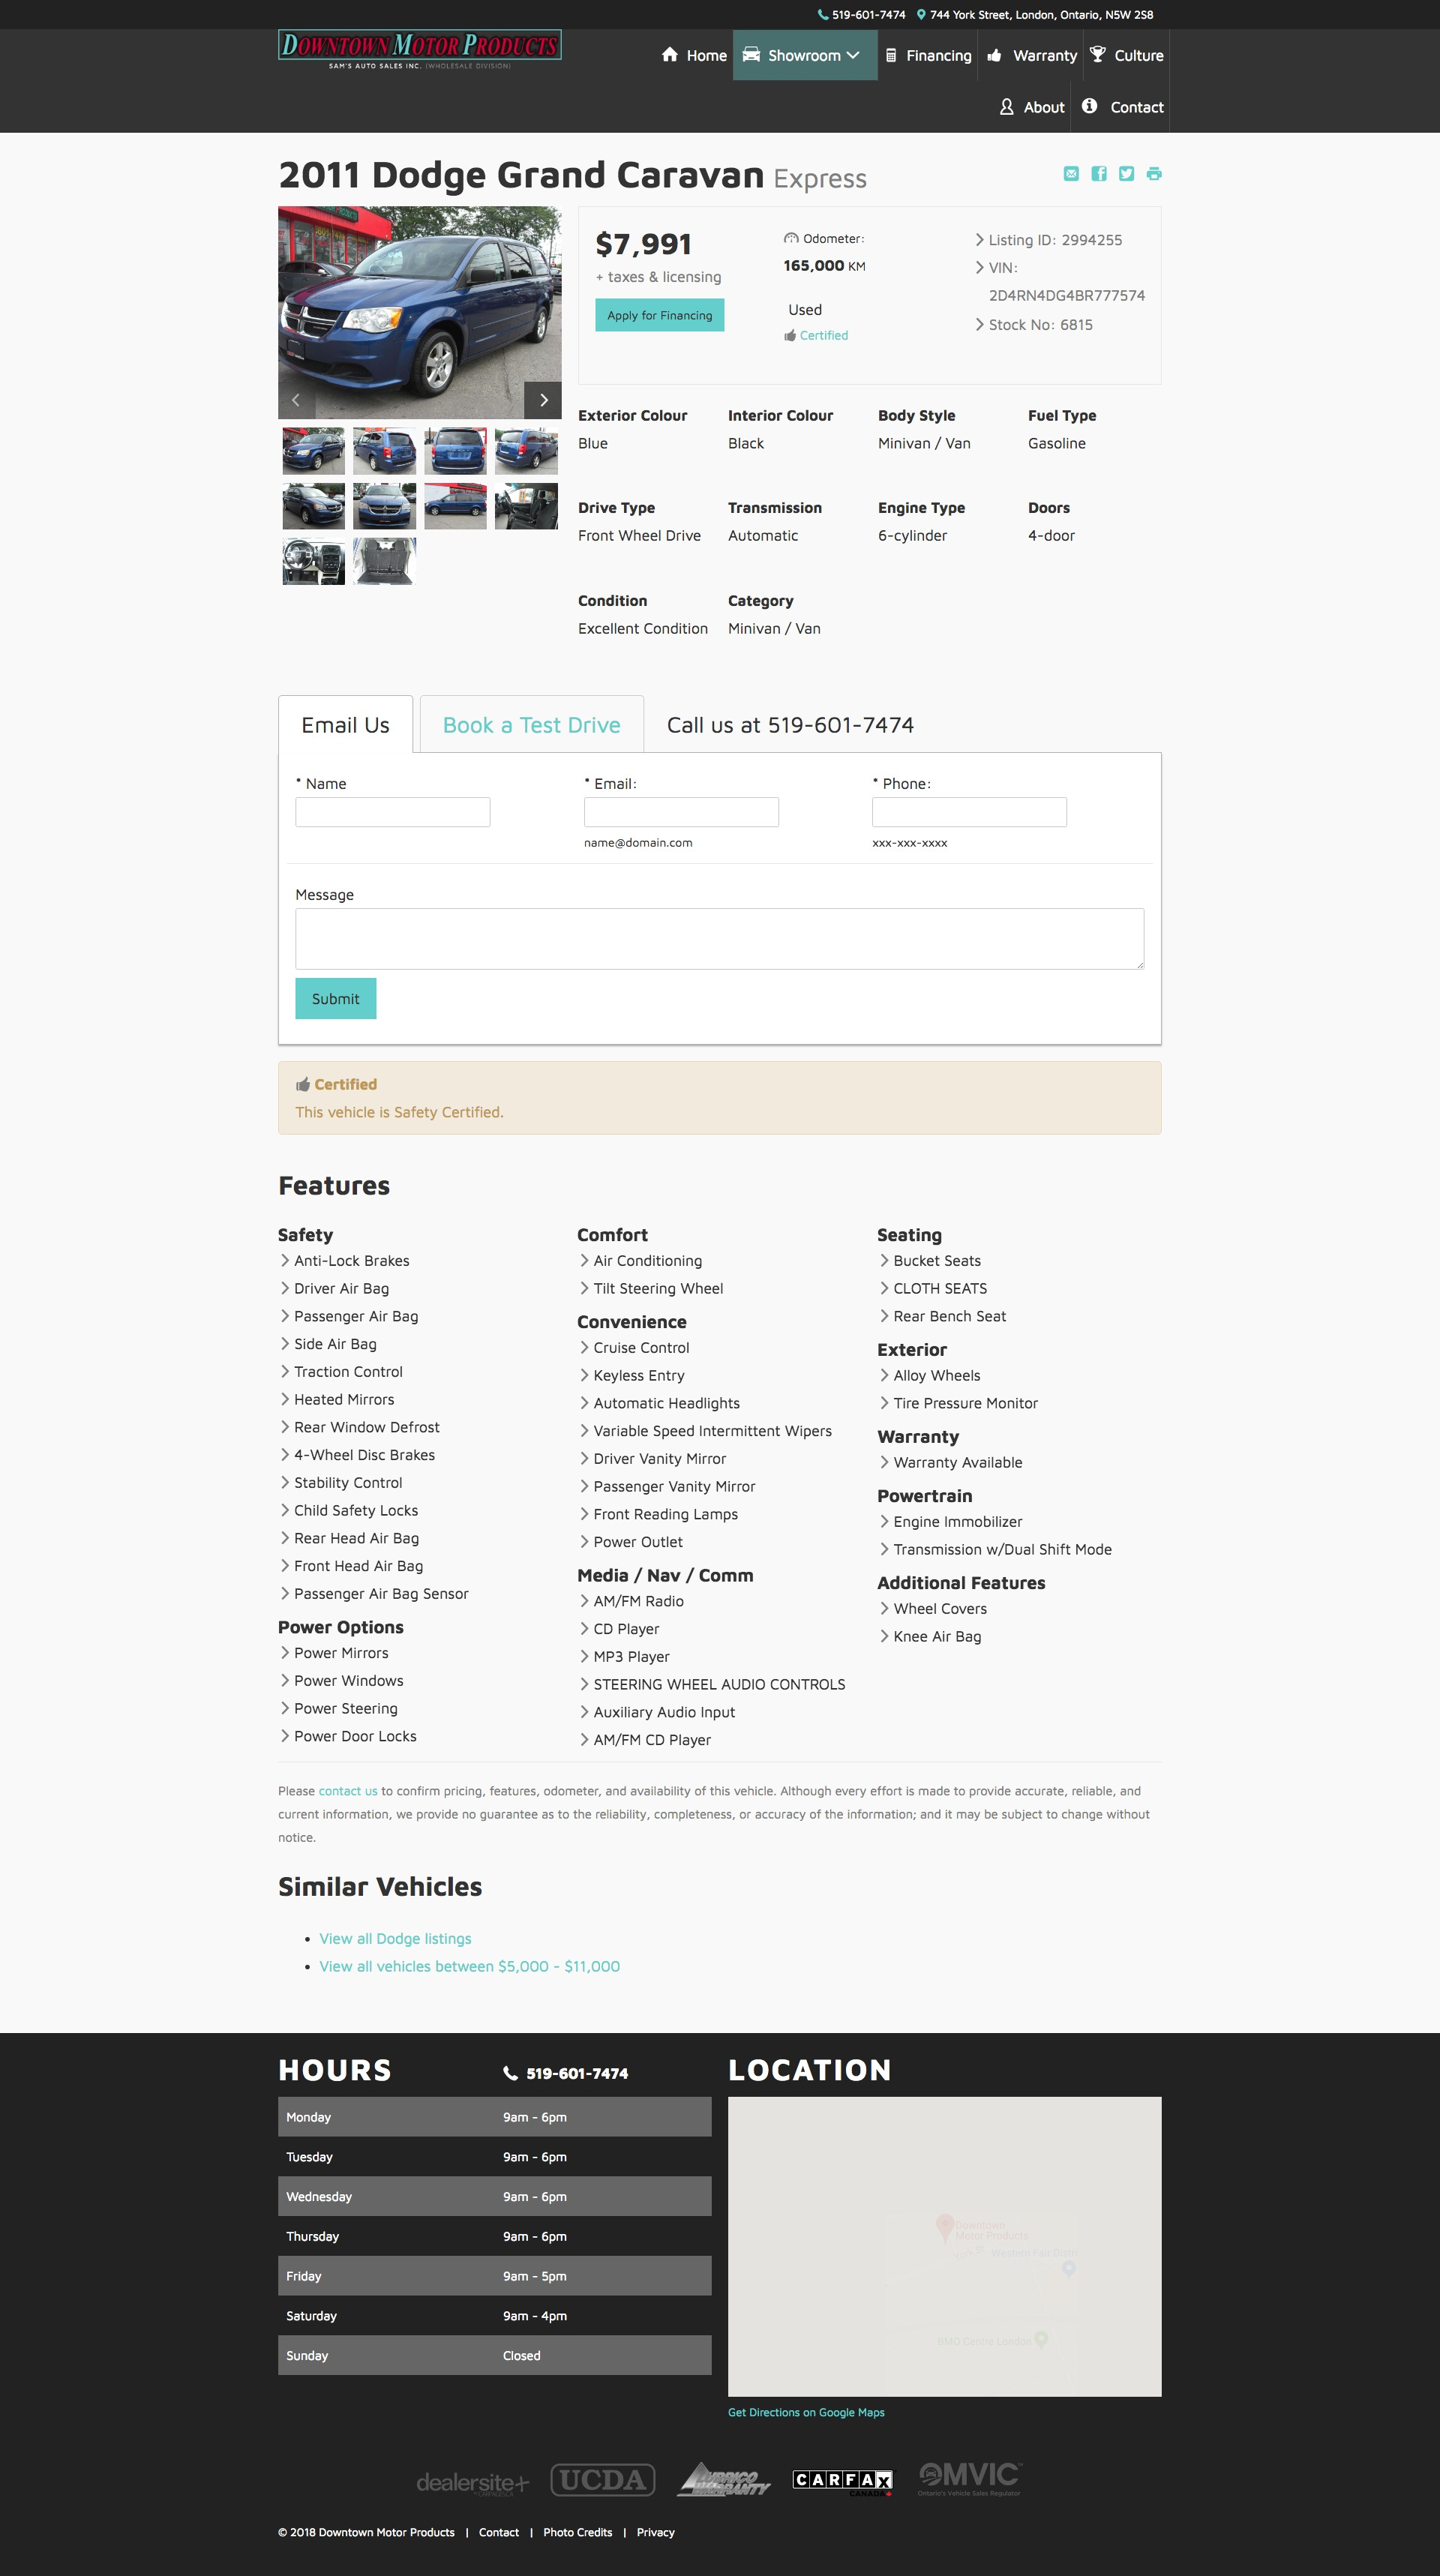car: (524, 380, 563, 421)
